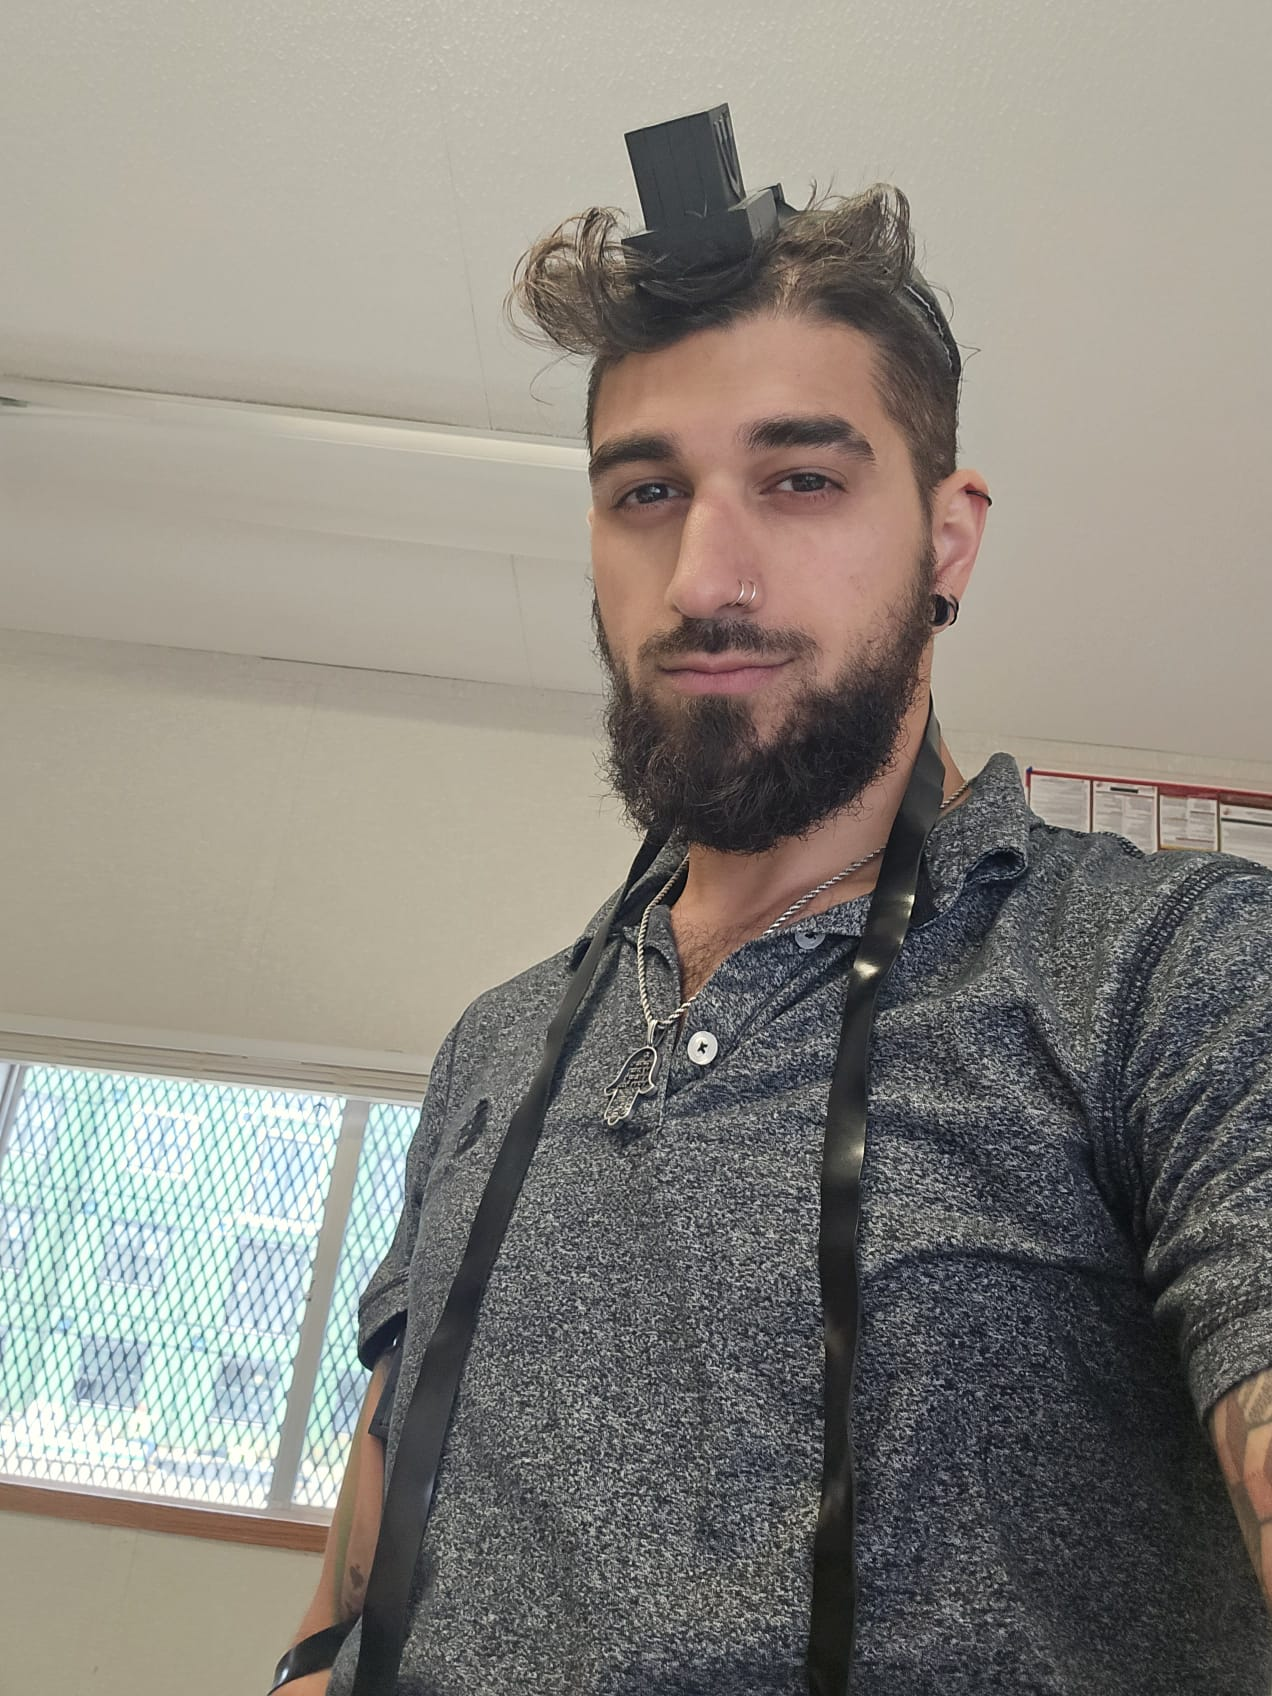tefillin: (617, 104, 790, 271)
